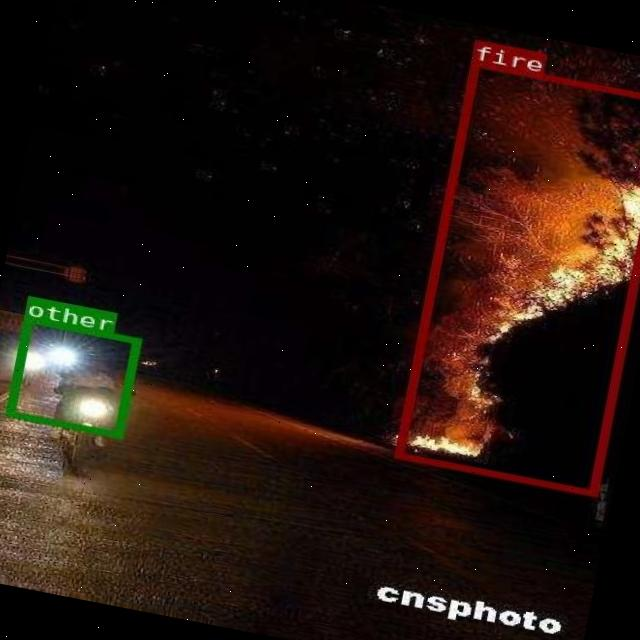fire: (394, 59, 640, 495)
